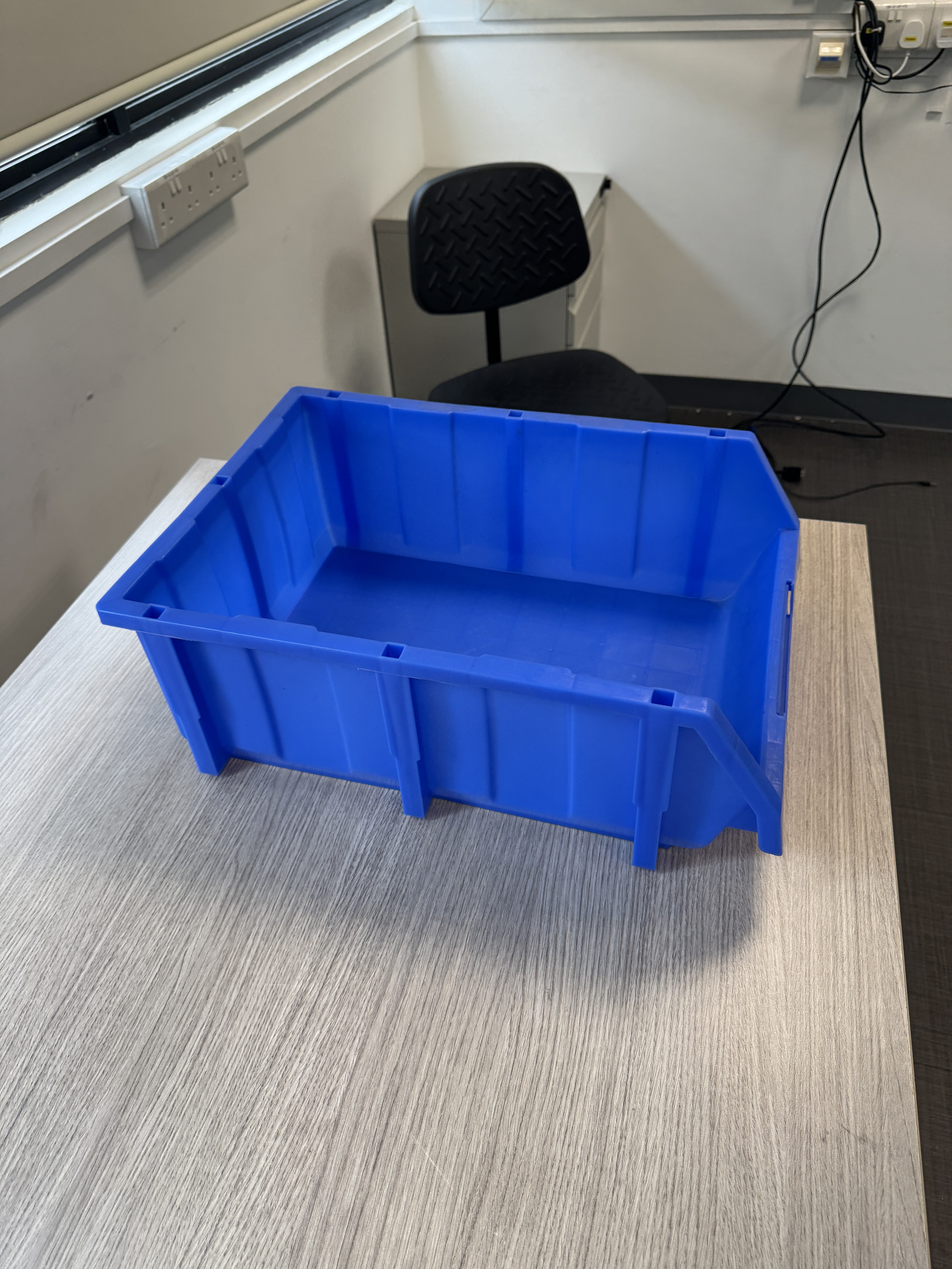Bin Boundary: (124, 286, 855, 785)
